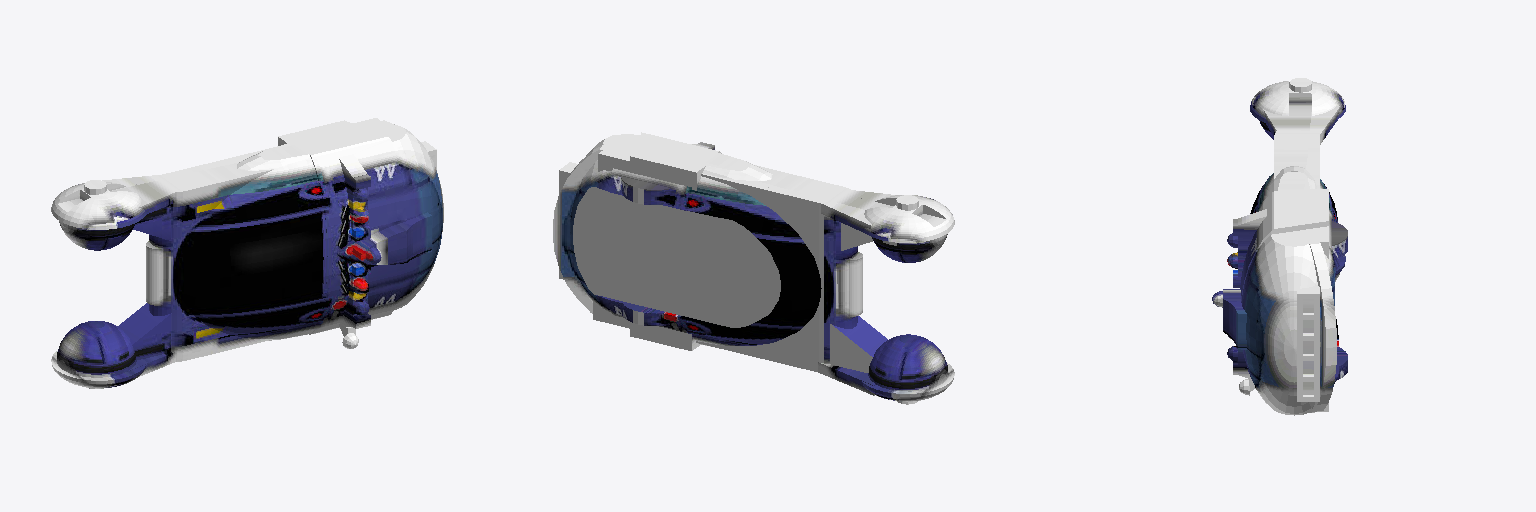
3 views of the same model, side by side, from view 1: azimuth 30°, elevation 25°; view 2: azimuth 150°, elevation 25°; view 3: azimuth 270°, elevation 25° (orthographic).
Parts seen in each view (by area): view 1: Object.1; view 2: Object.1; view 3: Object.1.
Part boxes in pixels (x1,y1,x2,y2): Object.1: (51, 118, 443, 388); Object.1: (553, 132, 954, 404); Object.1: (1212, 78, 1347, 415).
Size of the model in its own units: 77 by 39 by 24.
Materials: 2 (1 with a texture image).